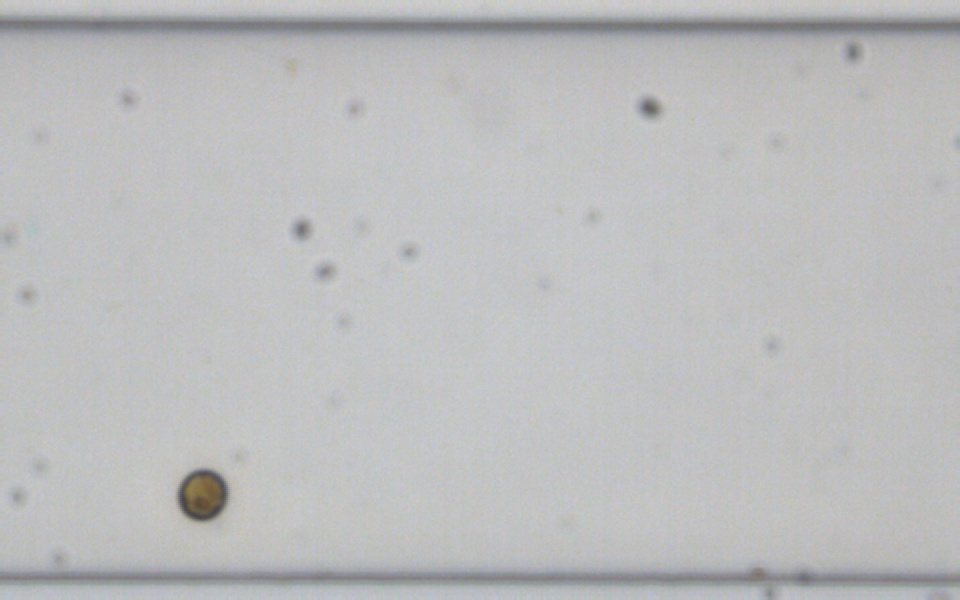Effrenium: (172, 465, 232, 523)
